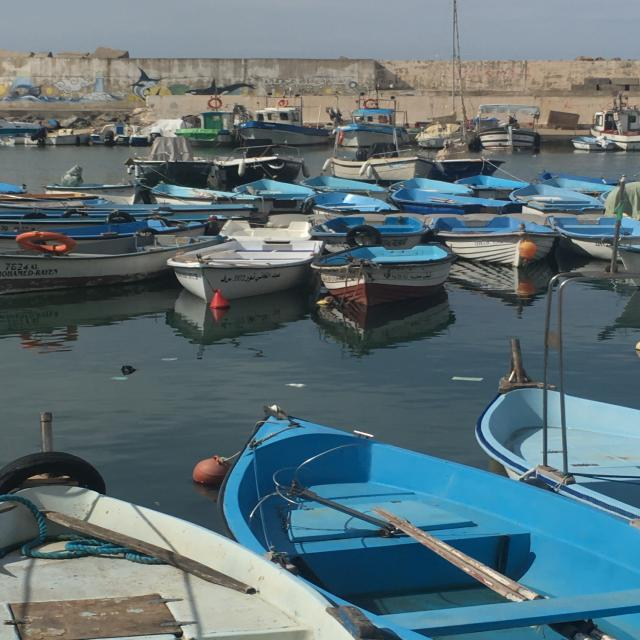Plastic: (451, 375, 484, 383), (161, 356, 178, 362)
Plastic bag: (119, 363, 138, 376), (285, 382, 307, 390)
